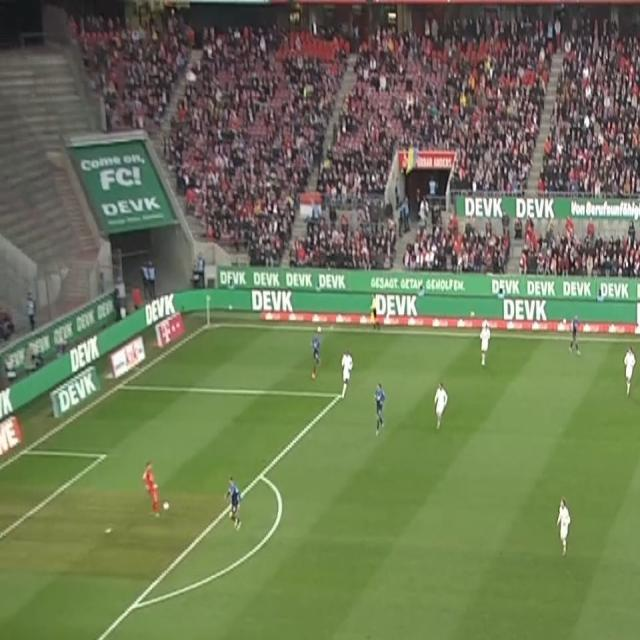ball: (163, 499, 170, 512)
